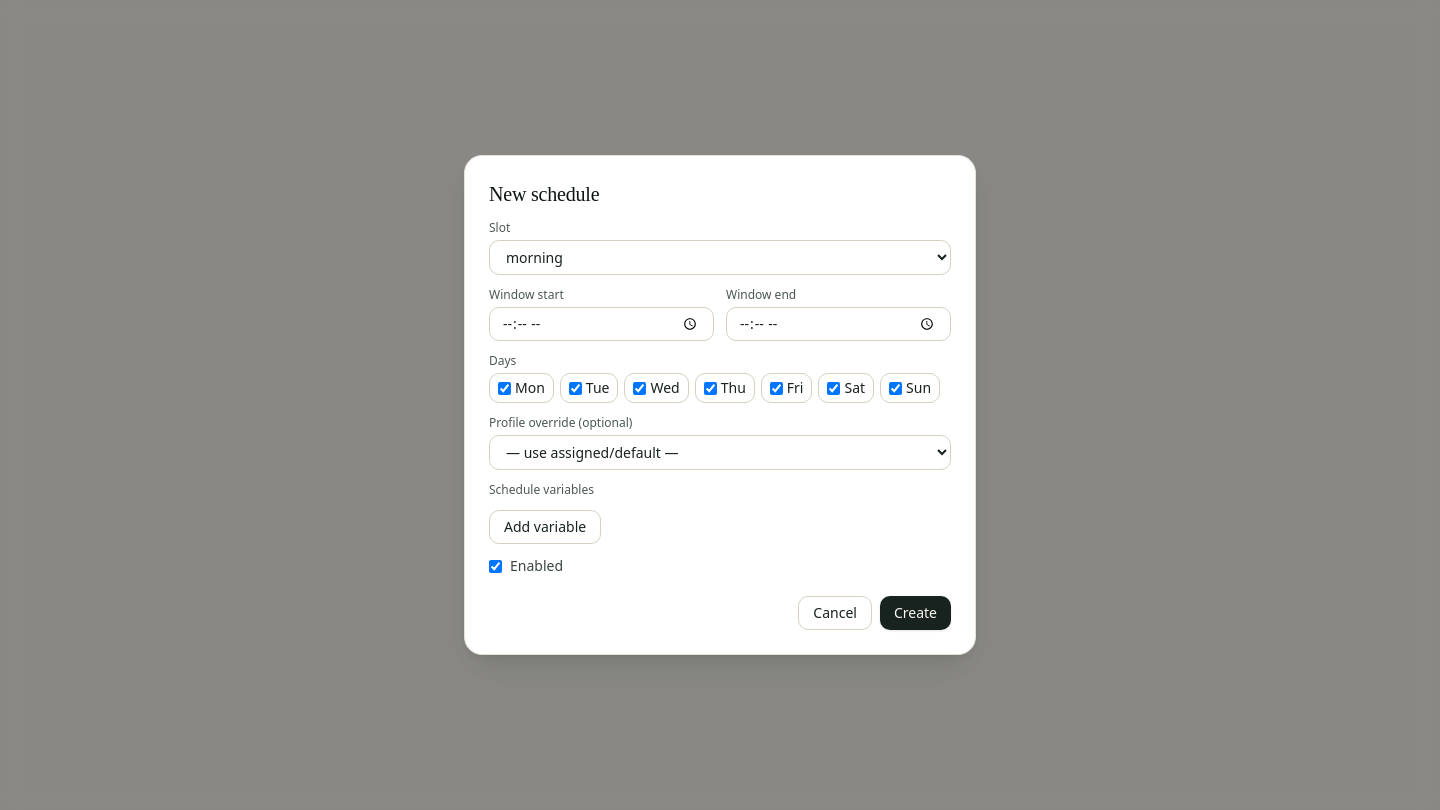
Test: ScheduleFormDialog — create › blocks an inverted window
In the time field labelled "Window start": (602, 324) [489, 307, 714, 341], type "11:00"
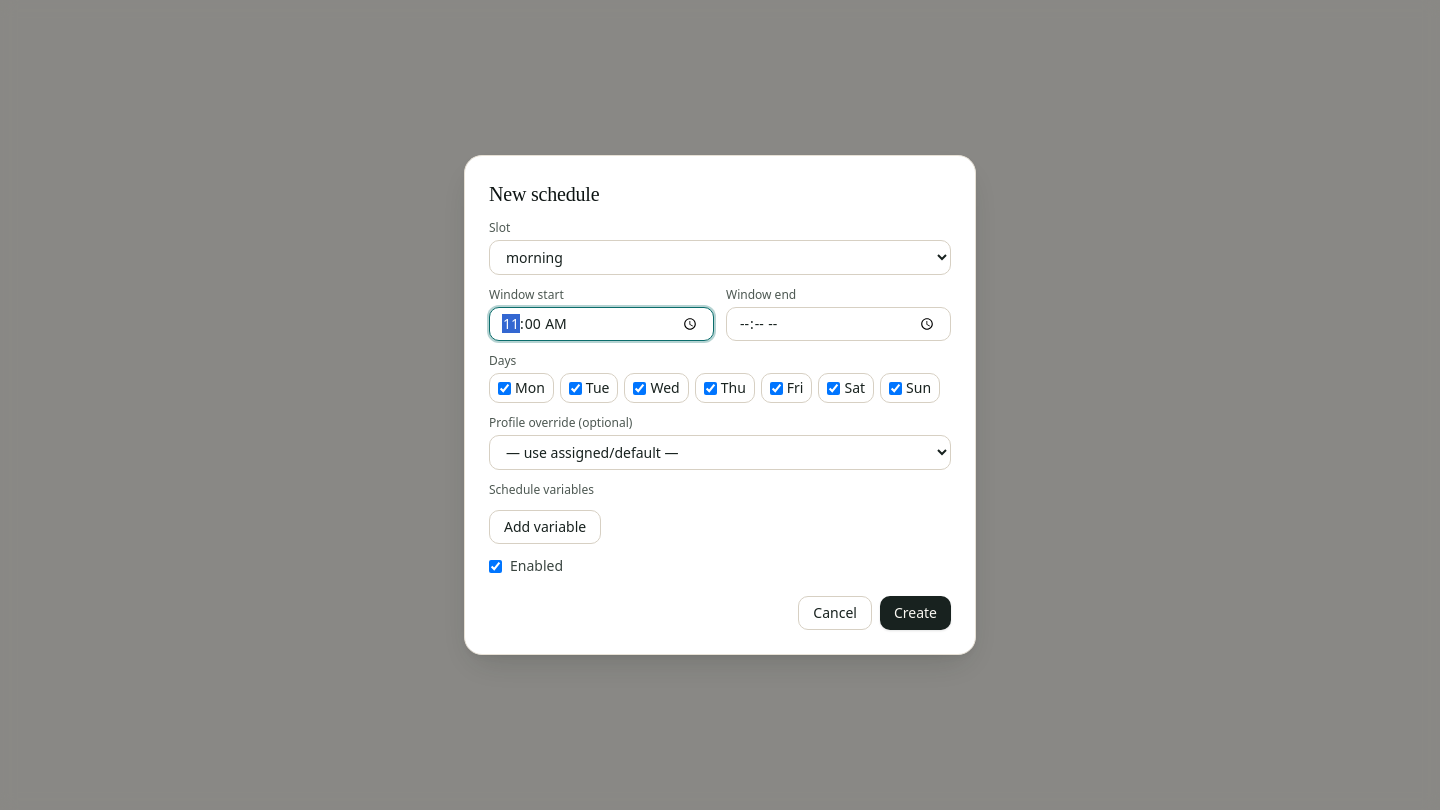
In the time field labelled "Window end": (838, 324) [726, 307, 951, 341], type "09:00"
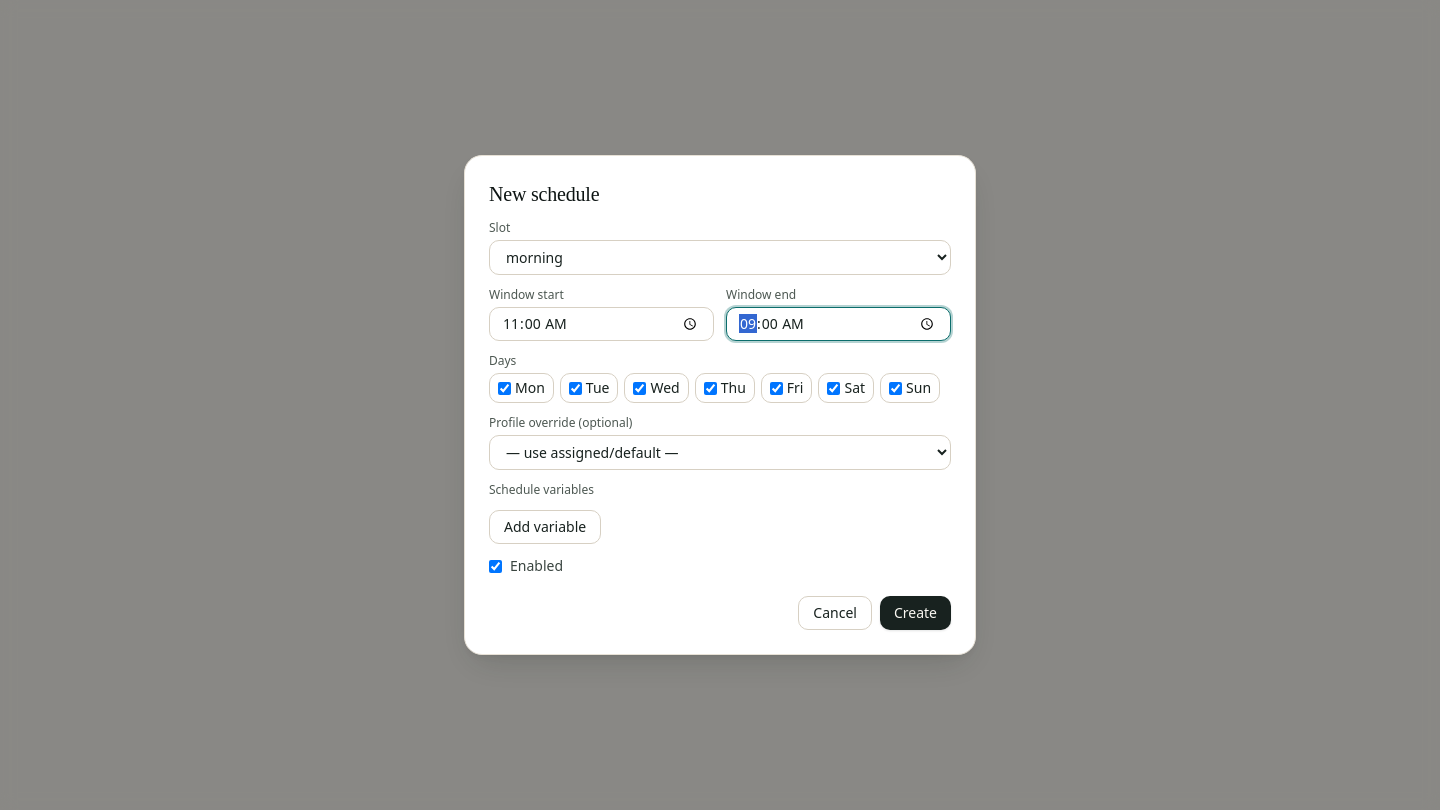
Click the button "Create": (915, 613) [880, 596, 951, 630]
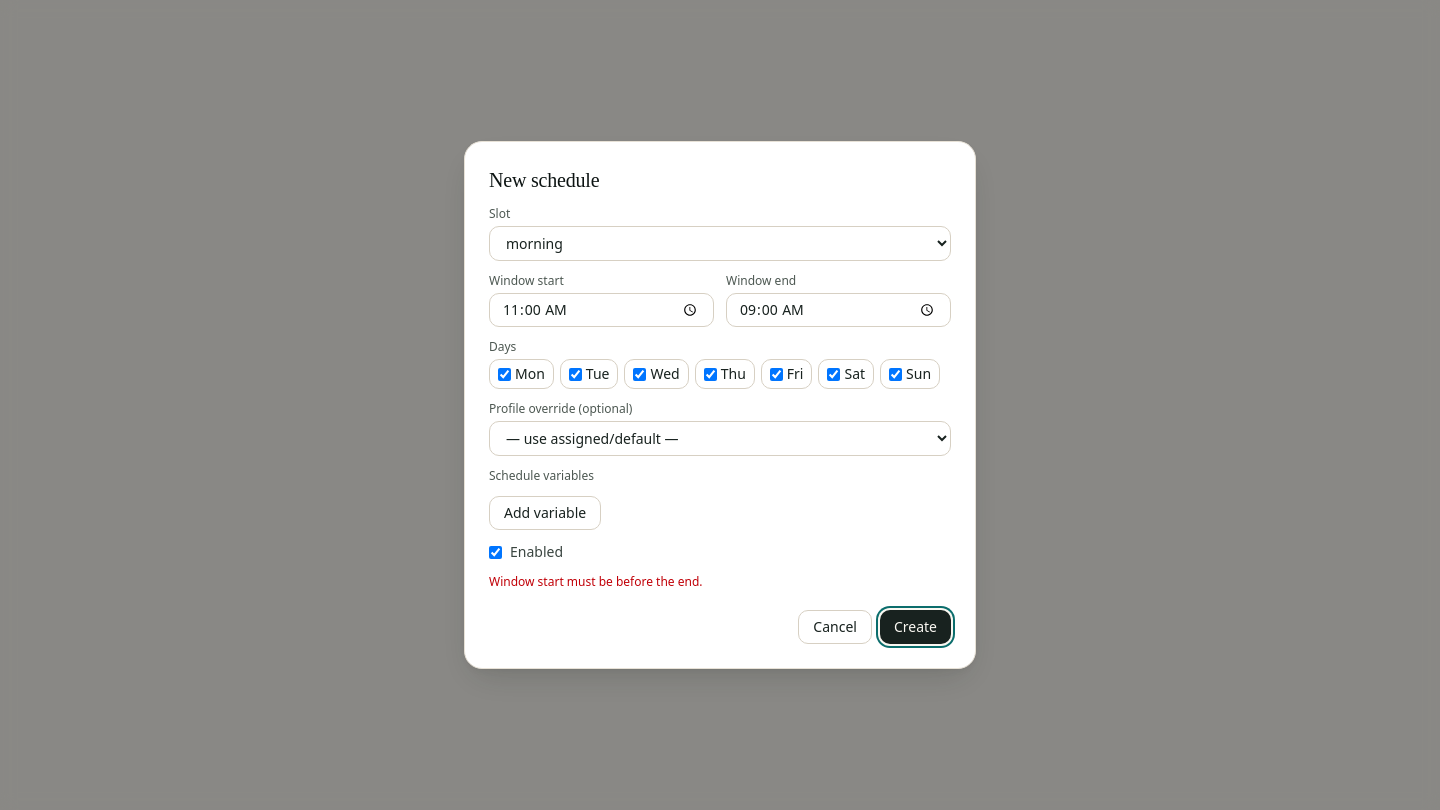
Now the text "Window start must be before the end." is shown, box [489, 573, 702, 590]
